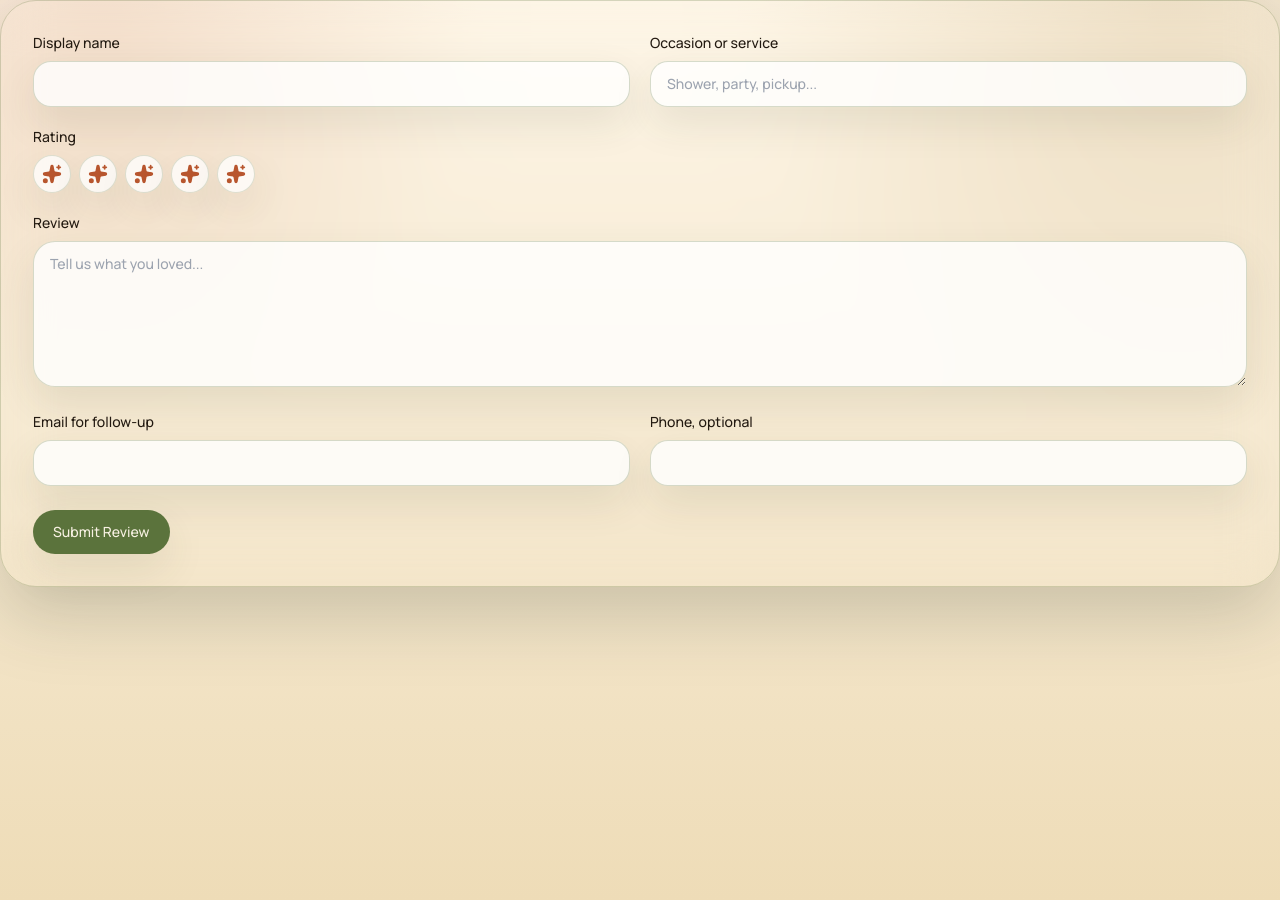
ReviewForm › shows handled validation errors and preserves entered text
The image size is (1280, 900).
Type "Too short" into the text box labelled "Review" at (640, 314), box x1=33 y1=241 x2=1247 y2=387
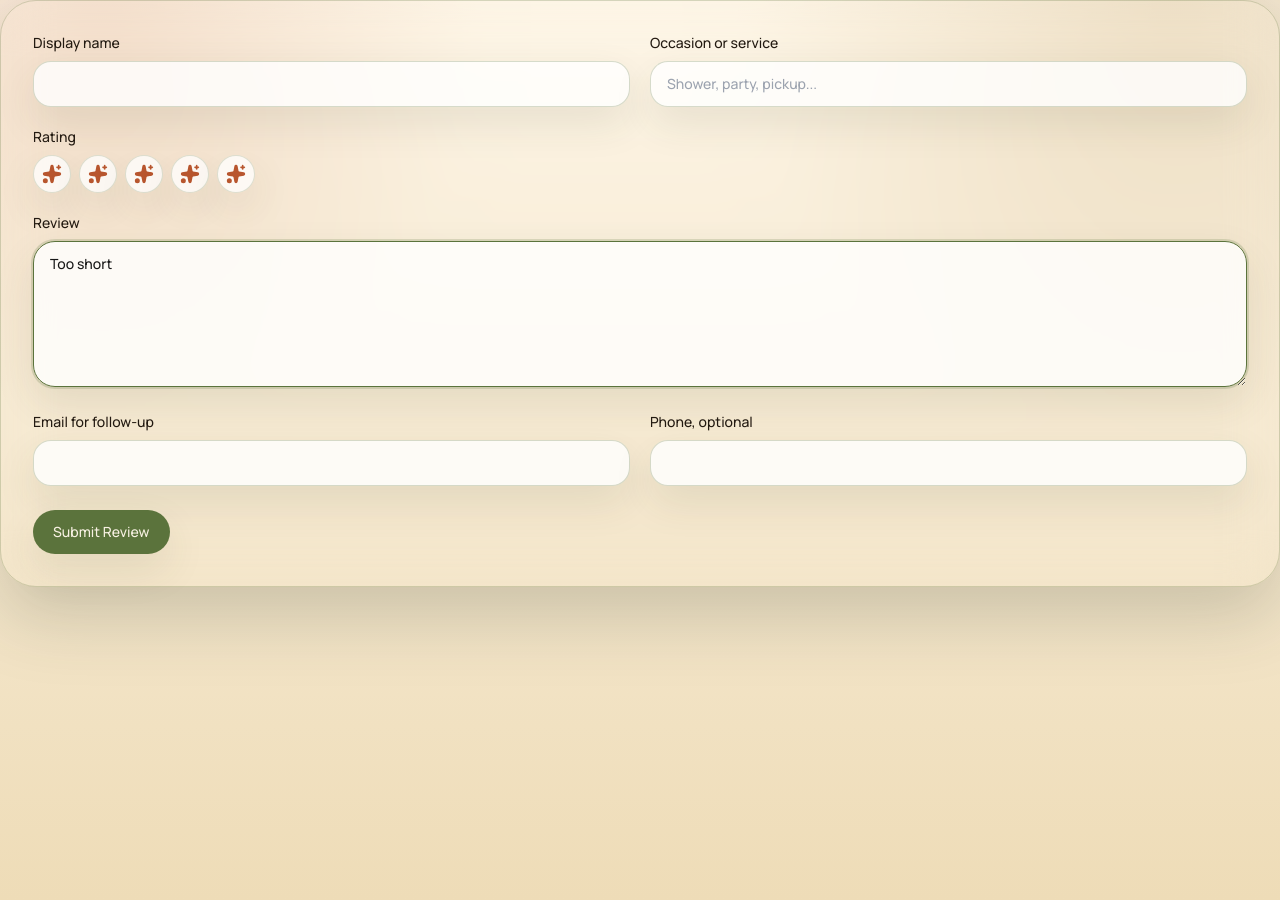
Click the button "Submit Review" at (101, 532), box x1=33 y1=510 x2=170 y2=554
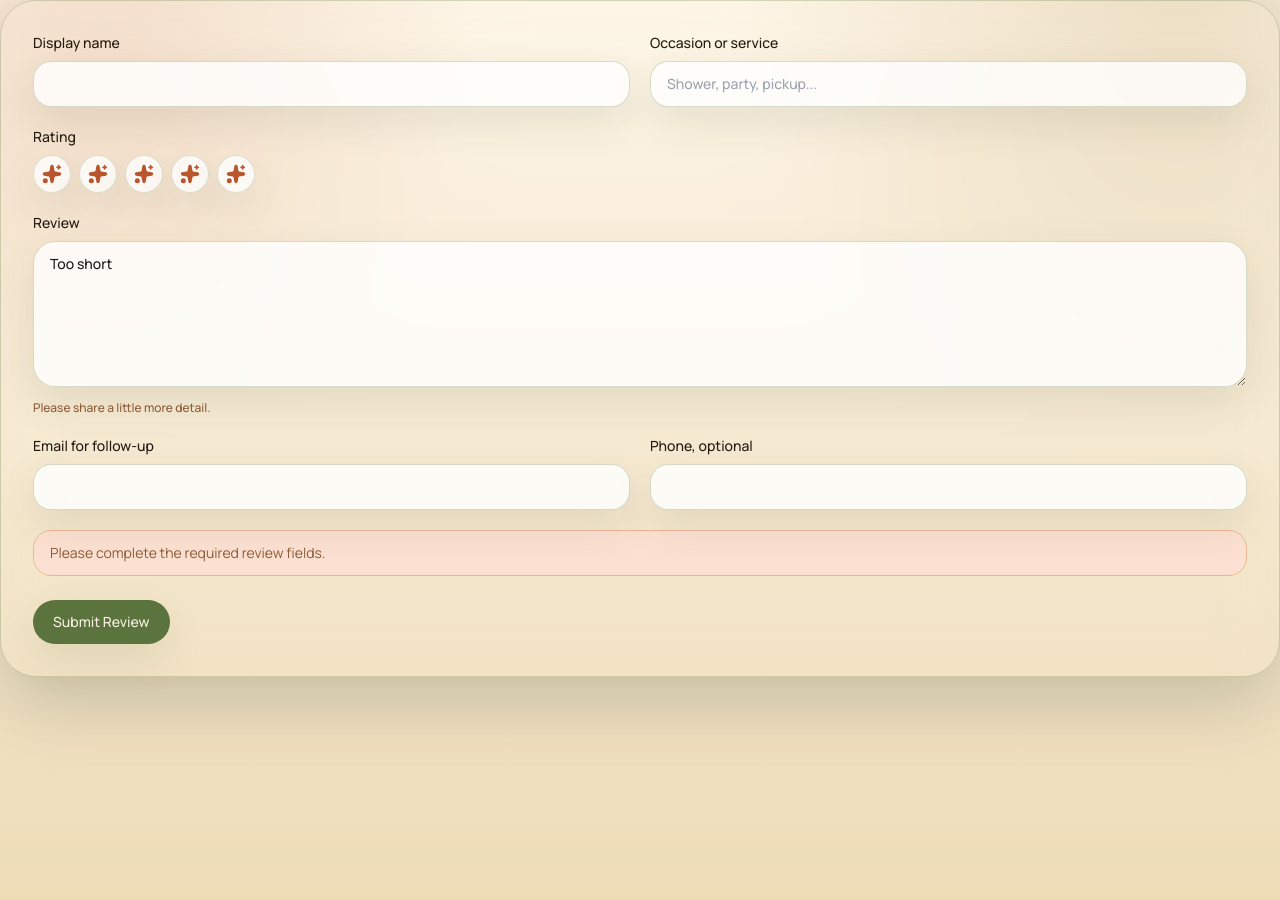
Expected: the text "Please share a little more detail." is shown, x1=33 y1=399 x2=210 y2=416
